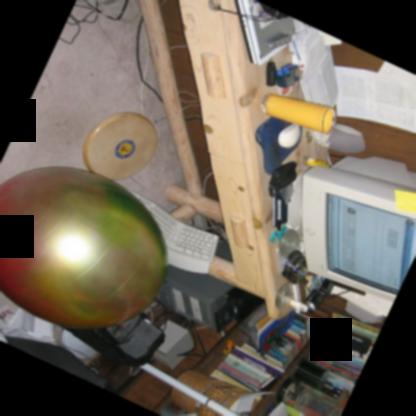backpack: (58, 315, 170, 371)
